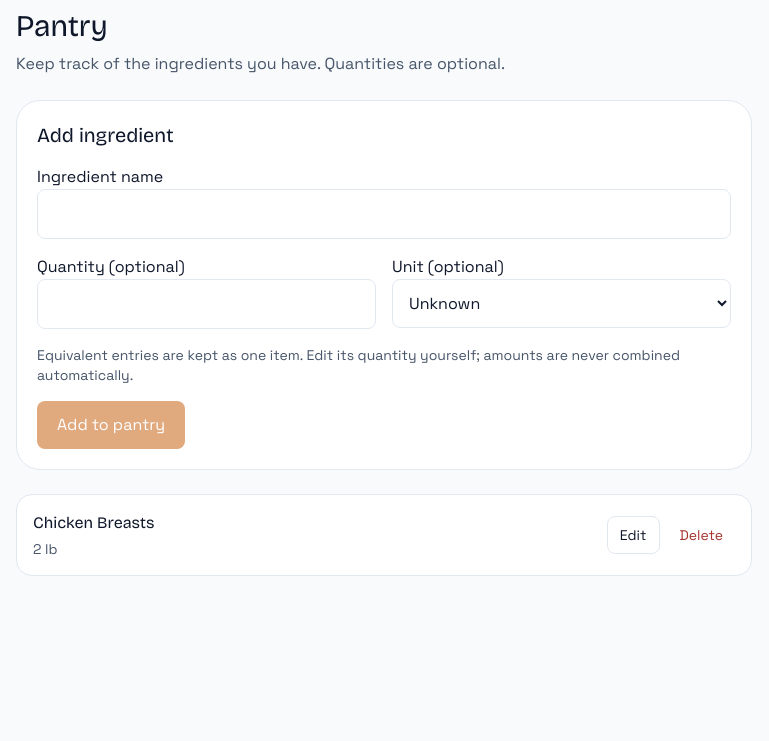
Test: duplicate error retains user input and existing item
Expected: the heading "Chicken Breasts" is shown, [33,513,154,532]
In the dropdown labelled "Ingredient name": (384,214) [37,189,731,239], type "chicken breast"
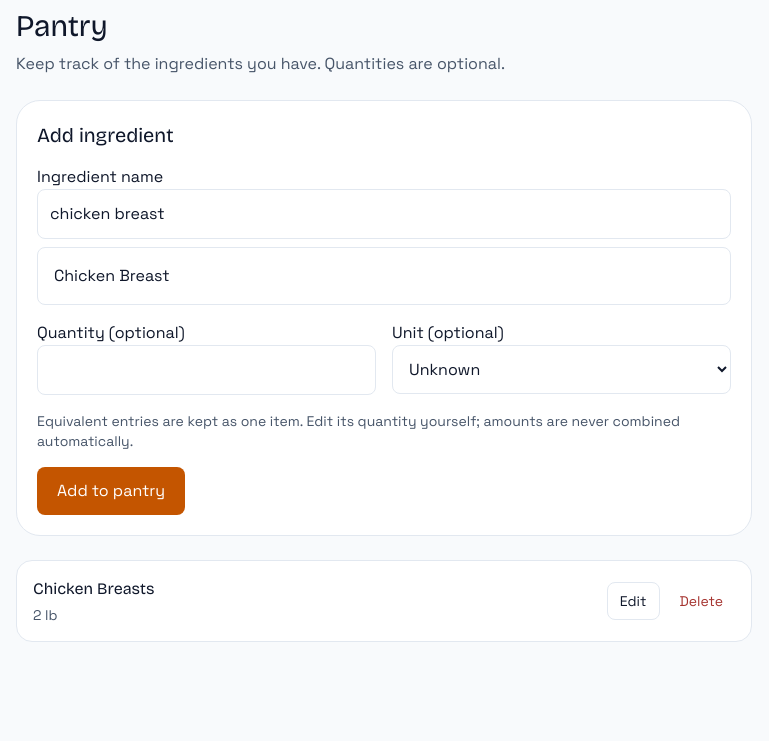
Click the button "Add to pantry": (111,491) [37,467,185,515]
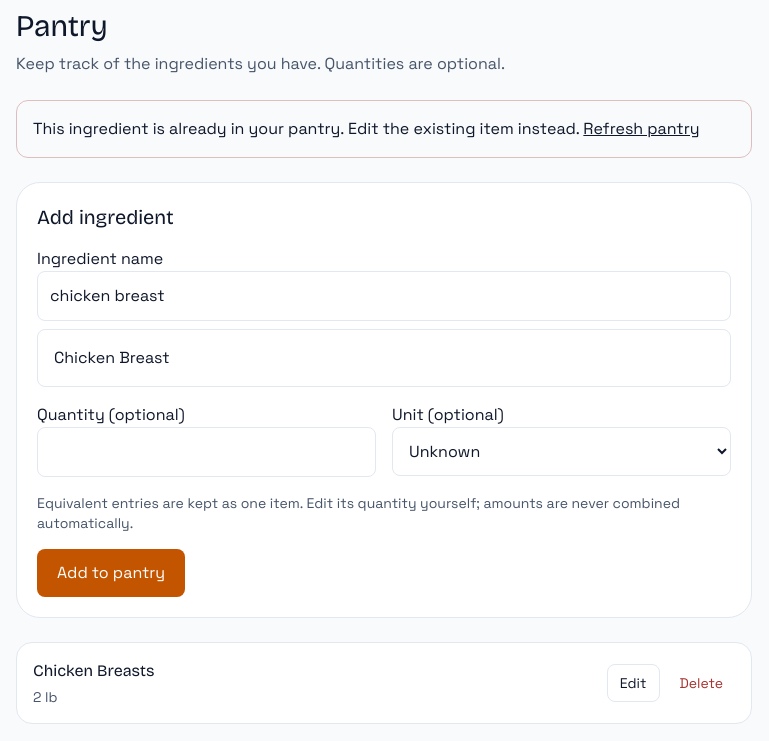
Expected: the number of buttons named "Edit Chicken Breasts" is 1, [607,664,660,702]
Expected: the message shows "already in your pantry", [33,118,579,139]
